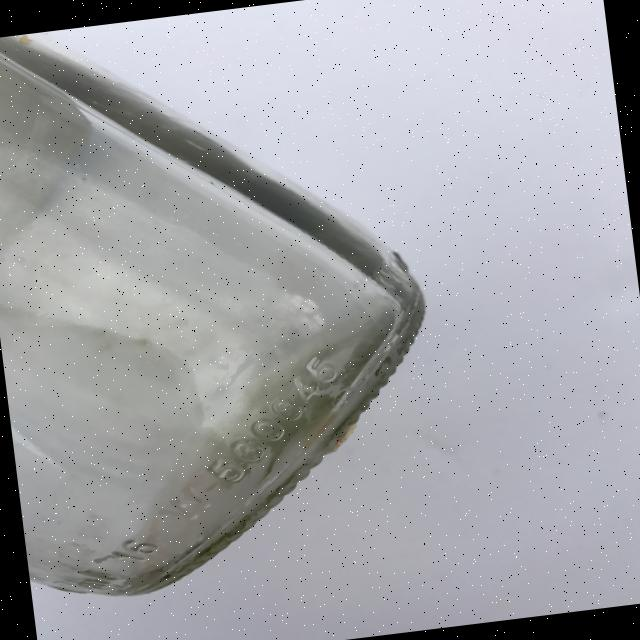glass: (0, 0, 457, 608)
